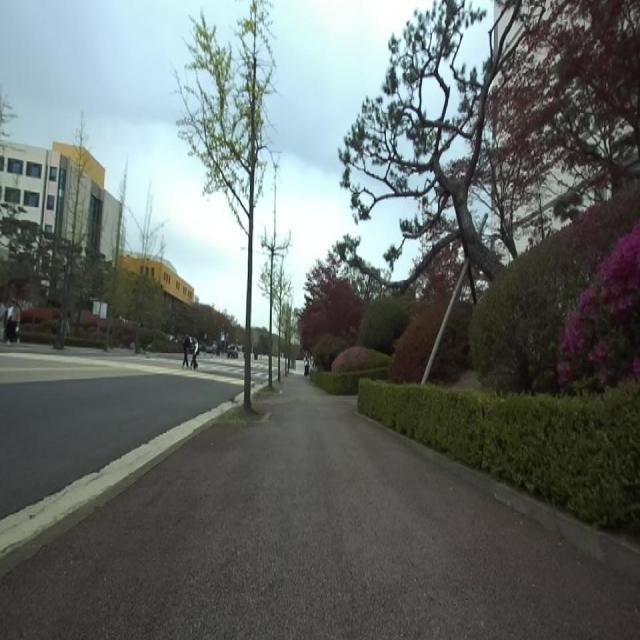sidewalk: (0, 374, 640, 639), (0, 421, 212, 578)
